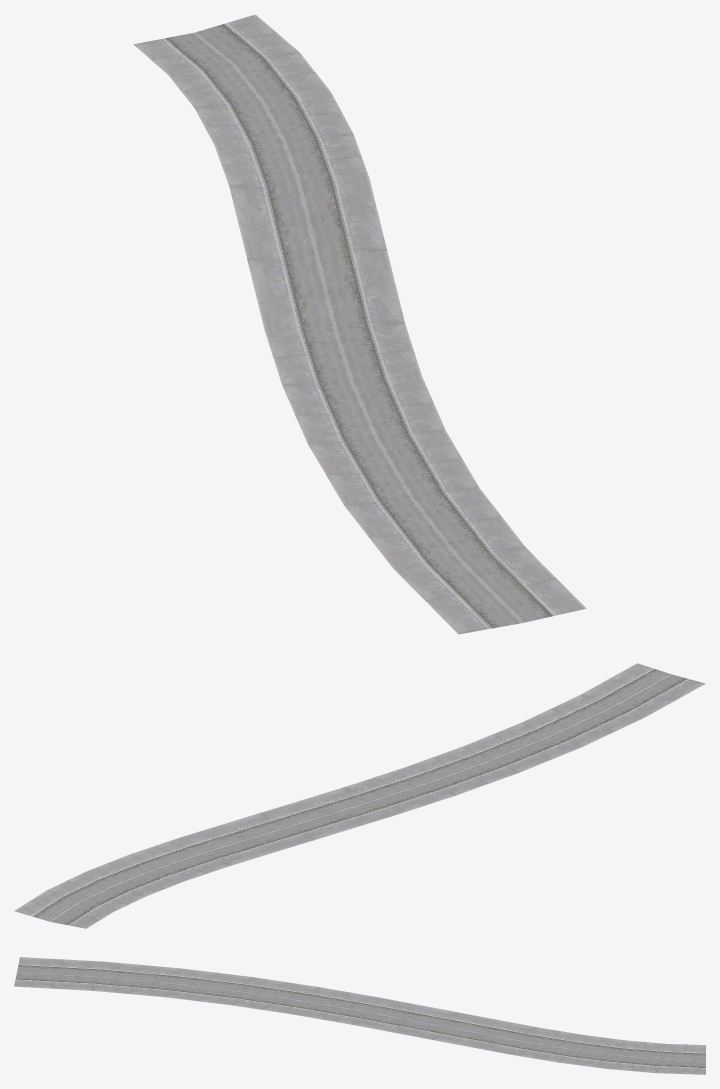
File: lodasnroad0711.obj
The picture shows the model from 3 angles, top to bottom: view 1: azimuth 30°, elevation 25°; view 2: azimuth 150°, elevation 25°; view 3: azimuth 270°, elevation 25°; orthographic projection. The views are drawn at different scales.
Visible parts, largest first — view 1: lodasNroad0711; view 2: lodasNroad0711; view 3: lodasNroad0711.
Boxes of the visible parts, x1,y1,x2,y2 form: lodasNroad0711: (133,14,586,634); lodasNroad0711: (14,663,705,928); lodasNroad0711: (14,957,705,1074).
Size of the model in its own units: 78.94 by 0.5653 by 196.
Materials: 1 (1 with a texture image).
